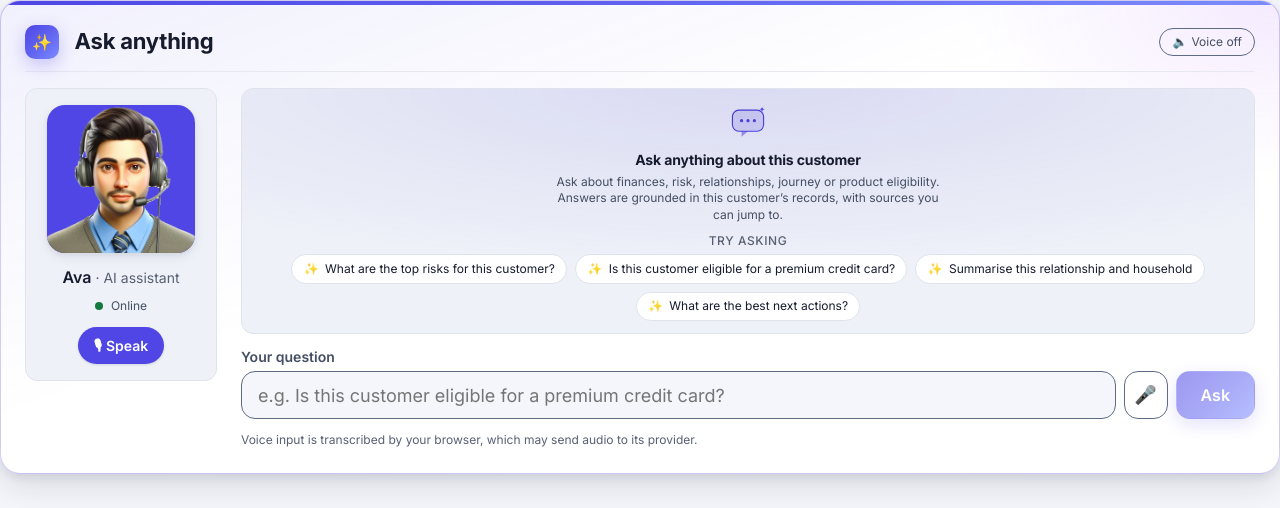
Scenario: ask-anything panel (14.5) › streams an answer and shows separated fact and knowledge citations with a traversal path
Type "How big is the household?" into the field labelled "Your question" at (678, 395), box [241,371,1116,419]
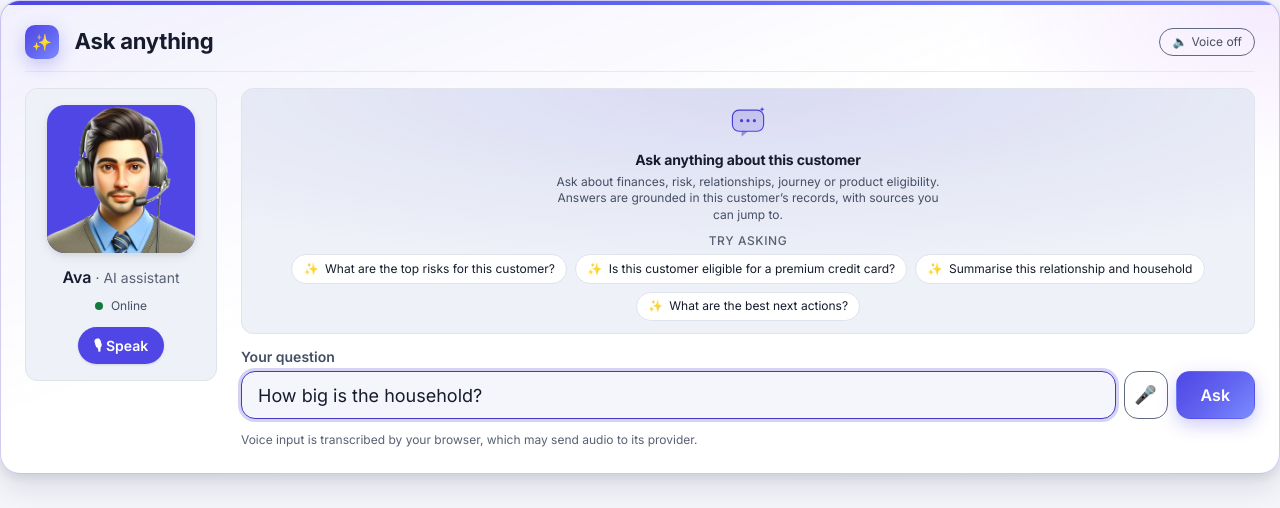
Click the button "Ask" at (1215, 395), box [1176,371,1255,419]
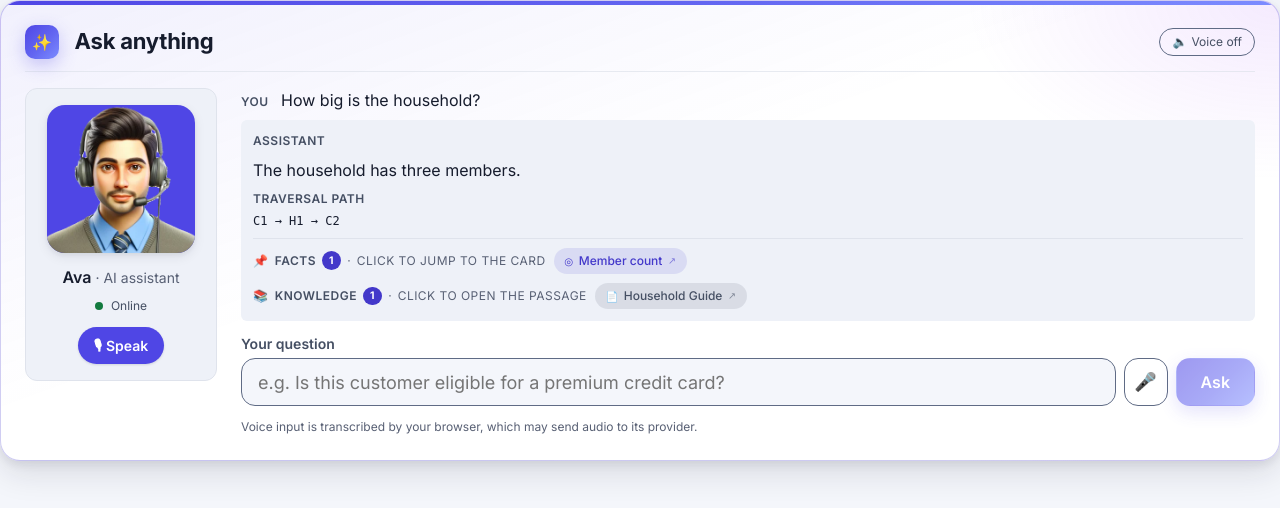
Check: the text "The household has three members." is shown, box [253,160,521,180]
Check: the text "Facts" is shown, box [275,252,316,270]
Check: the text "Knowledge" is shown, box [275,287,357,305]
